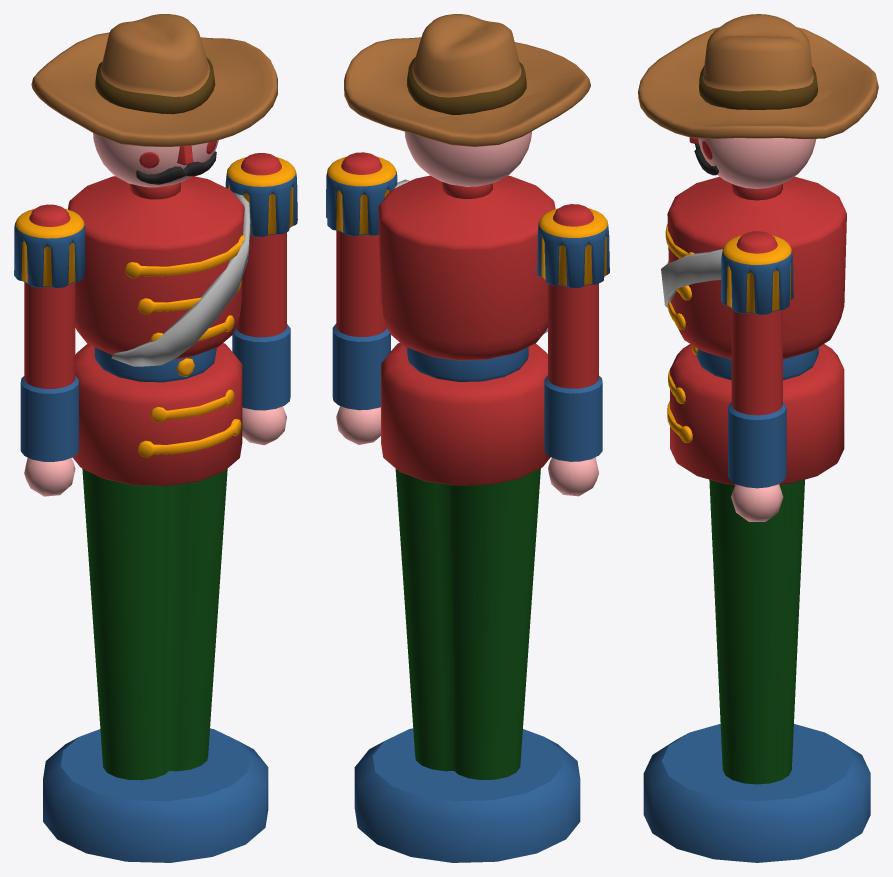
The model's file is Soldier_04.fbx.
The picture shows the model from 3 angles, left to right: view 1: azimuth 30°, elevation 25°; view 2: azimuth 150°, elevation 25°; view 3: azimuth 270°, elevation 25°; orthographic projection.
Visible parts, largest first — view 1: Soldier_04; view 2: Soldier_04; view 3: Soldier_04.
Boxes of the visible parts, <box> form: Soldier_04: <box>14,14,297,862</box>; Soldier_04: <box>326,14,609,862</box>; Soldier_04: <box>638,14,878,862</box>.
Bounding box in the file's own units: 3.63 × 9.96 × 2.76.
